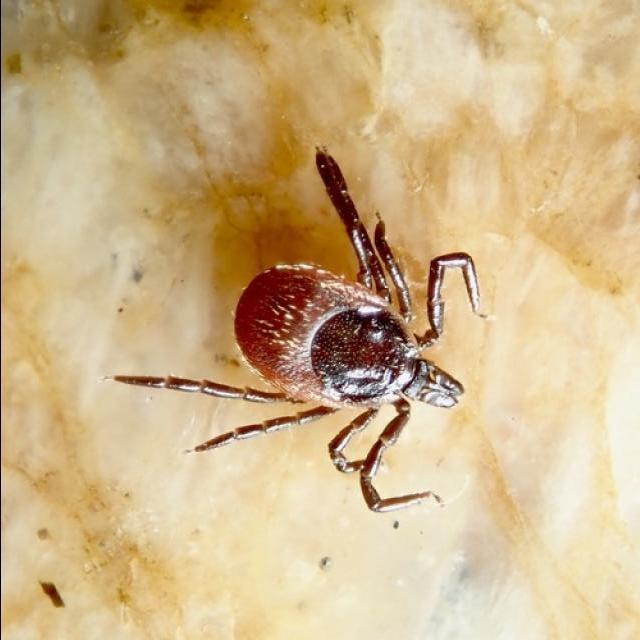Ixodes Ricinus-F: (108, 147, 483, 515)
